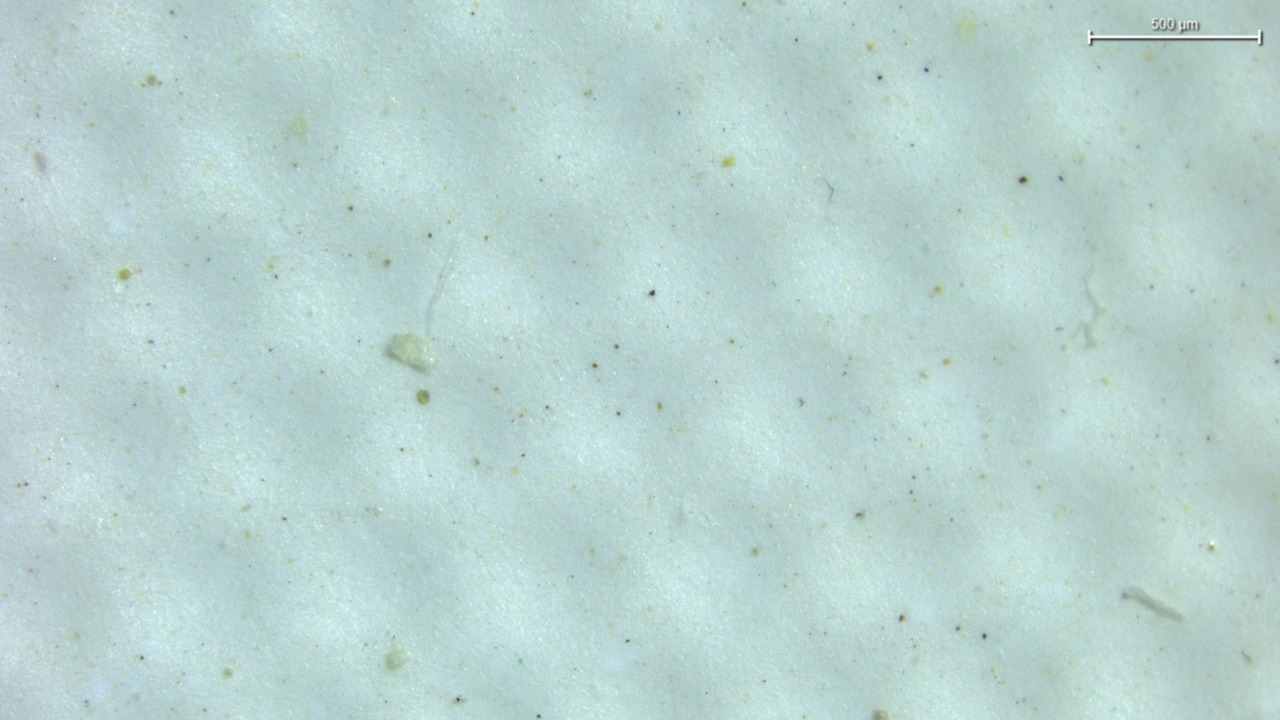microplastic_fragment: (386, 333, 432, 372)
